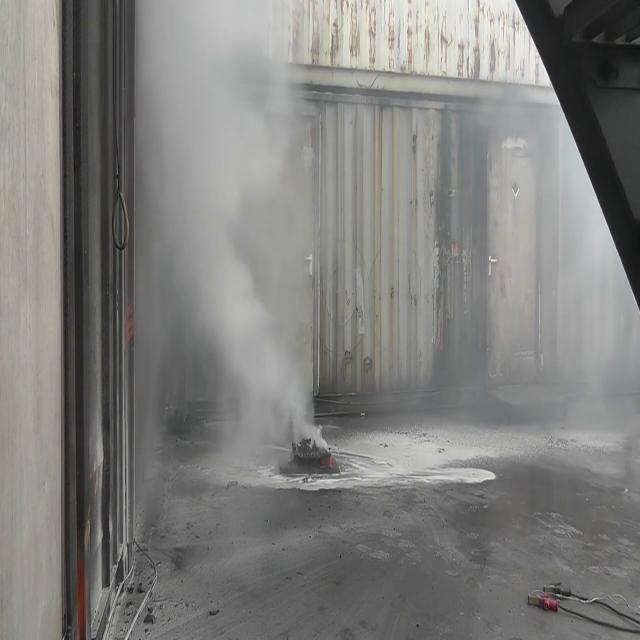Smoke: (134, 1, 332, 472)
